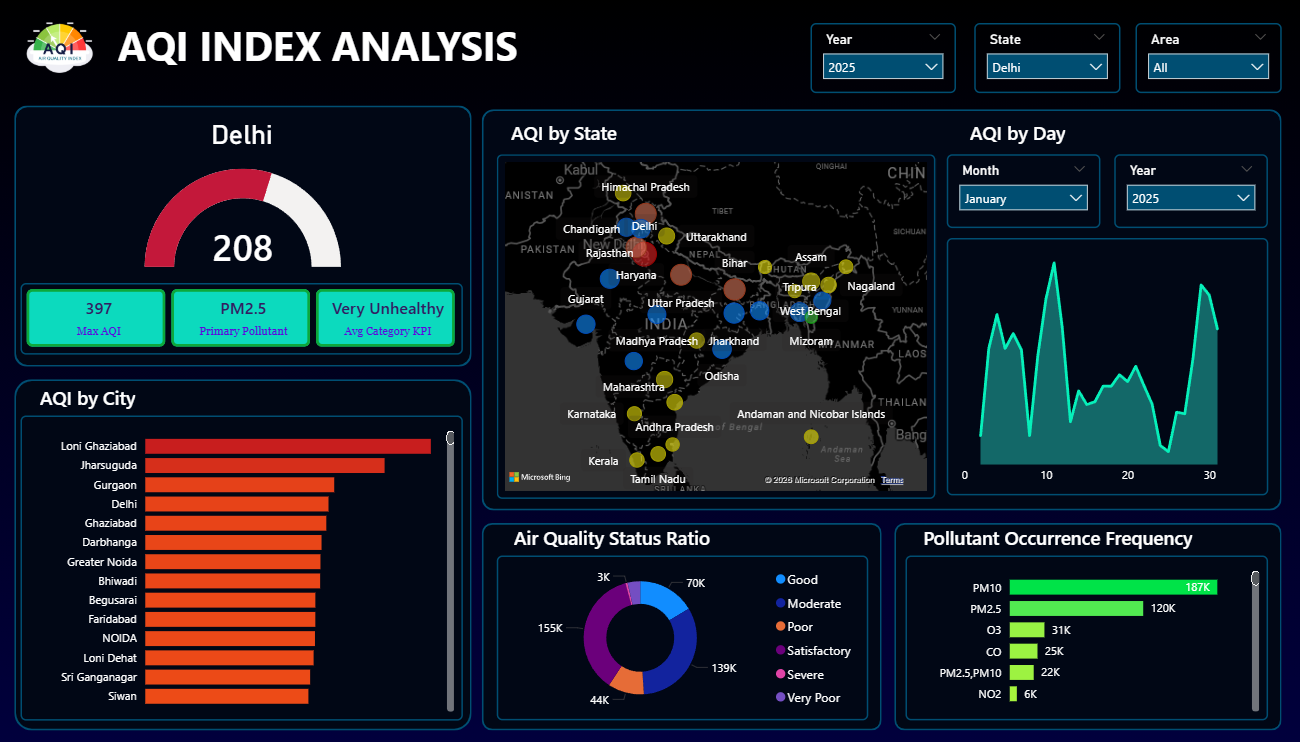

The dashboard page shown, as its layout file describes it:
{"tool":"powerbi","page":{"name":"Page 1","canvas":[1400,800],"ordinal":0},"visuals":[{"type":"textbox","box":[123.3,16.1,609.9,75.1],"z":0},{"type":"image","box":[24.1,16.1,84.5,73.7],"z":1000},{"type":"shape","box":[17.4,115.3,490.6,280.2],"z":2000},{"type":"gauge","fields":{"Y":["day_wise_aqi_data.Avg AQI"]},"box":[112.6,178.3,300.3,115.3],"z":3000},{"type":"slicer","fields":{"Values":["Calendar Table.Year"]},"box":[871.3,26.8,156,75],"z":4000},{"type":"slicer","fields":{"Values":["day_wise_aqi_data.state"]},"box":[1046.9,26.8,156.8,75],"z":5000},{"type":"slicer","fields":{"Values":["day_wise_aqi_data.area"]},"box":[1219.8,26.8,156.8,75],"z":6000},{"type":"cardVisual","fields":{"Data":["Max(day_wise_aqi_data.aqi_value)","day_wise_aqi_data.Primary Pollutant","day_wise_aqi_data.Measure Category KPI"]},"box":[24.1,305.6,474.5,76.4],"z":7000},{"type":"cardVisual","fields":{"Data":["day_wise_aqi_data.KPI Title"]},"box":[16.1,115.3,492,52.3],"z":8000},{"type":"shape","box":[518.8,119.3,857.9,430.3],"z":9000},{"type":"map","fields":{"Category":["day_wise_aqi_data.state"],"Size":["day_wise_aqi_data.Avg AQI"]},"box":[534.9,167.6,470.5,370],"z":10000},{"type":"cardVisual","fields":{"Data":["day_wise_aqi_data.State Map Title"]},"box":[534.9,115.3,144.8,48.3],"z":11000},{"type":"areaChart","fields":{"Category":["Calendar Table.Date.Variation.Date Hierarchy.Day"],"Y":["day_wise_aqi_data.Avg AQI"]},"box":[1017.4,257.4,344.5,276.1],"z":12000},{"type":"slicer","fields":{"Values":["Calendar Table.Date.Variation.Date Hierarchy.Month"]},"box":[1017.4,167.6,165,79.1],"z":13000},{"type":"slicer","fields":{"Values":["Calendar Table.Year"]},"box":[1197.1,167.6,164.9,79.1],"z":14000},{"type":"cardVisual","fields":{"Data":["day_wise_aqi_data.KPI Title1"]},"box":[1021.5,115.3,144.8,48.3],"z":15000},{"type":"shape","box":[17.4,408.8,490.6,376.7],"z":16000},{"type":"shape","box":[518.8,563,429,222.5],"z":17000},{"type":"shape","box":[961.1,563,415.6,222.5],"z":18000},{"type":"barChart","fields":{"Category":["day_wise_aqi_data.area"],"Y":["day_wise_aqi_data.Avg AQI"]},"box":[24.1,447.7,474.5,327.1],"z":19000},{"type":"cardVisual","fields":{"Data":["day_wise_aqi_data.City AQI"]},"box":[24.1,399.5,144.8,48.3],"z":20000},{"type":"donutChart","fields":{"Y":["day_wise_aqi_data.Count of Rows"],"Series":["day_wise_aqi_data.air_quality_status"]},"box":[534.9,597.9,398.1,176.9],"z":21000},{"type":"clusteredBarChart","fields":{"Y":["day_wise_aqi_data.Count of Rows"],"Category":["day_wise_aqi_data.prominent_pollutants"]},"box":[973.2,597.9,388.7,176.9],"z":22000},{"type":"cardVisual","fields":{"Data":["day_wise_aqi_data.Air Quality Ratio"]},"box":[534.9,549.6,248,48.3],"z":23000},{"type":"cardVisual","fields":{"Data":["day_wise_aqi_data.Pollutant Freq"]},"box":[974.5,549.6,324.4,48.3],"z":24000}]}

Visuals, with their boxes in screenshot pixels (x1, y1, x2, y2), scaled from the page's 1400x800 canvas onto the 1300x742 screenshot:
textbox: 114, 15, 681, 85
image: 22, 15, 101, 83
shape: 16, 107, 472, 367
gauge - day_wise_aqi_data.Avg AQI: 105, 165, 383, 272
slicer - Calendar Table.Year: 809, 25, 954, 94
slicer - day_wise_aqi_data.state: 972, 25, 1118, 94
slicer - day_wise_aqi_data.area: 1133, 25, 1278, 94
cardVisual - Max(day_wise_aqi_data.aqi_value) x day_wise_aqi_data.Primary Pollutant: 22, 283, 463, 354
cardVisual - day_wise_aqi_data.KPI Title: 15, 107, 472, 155
shape: 482, 111, 1278, 510
map - day_wise_aqi_data.state x day_wise_aqi_data.Avg AQI: 497, 155, 934, 499
cardVisual - day_wise_aqi_data.State Map Title: 497, 107, 631, 152
areaChart - Calendar Table.Date.Variation.Date Hierarchy.Day x day_wise_aqi_data.Avg AQI: 945, 239, 1265, 495
slicer - Calendar Table.Date.Variation.Date Hierarchy.Month: 945, 155, 1098, 229
slicer - Calendar Table.Year: 1112, 155, 1265, 229
cardVisual - day_wise_aqi_data.KPI Title1: 949, 107, 1083, 152
shape: 16, 379, 472, 729
shape: 482, 522, 880, 729
shape: 892, 522, 1278, 729
barChart - day_wise_aqi_data.area x day_wise_aqi_data.Avg AQI: 22, 415, 463, 719
cardVisual - day_wise_aqi_data.City AQI: 22, 371, 157, 415
donutChart - day_wise_aqi_data.Count of Rows x day_wise_aqi_data.air_quality_status: 497, 555, 866, 719
clusteredBarChart - day_wise_aqi_data.Count of Rows x day_wise_aqi_data.prominent_pollutants: 904, 555, 1265, 719
cardVisual - day_wise_aqi_data.Air Quality Ratio: 497, 510, 727, 555
cardVisual - day_wise_aqi_data.Pollutant Freq: 905, 510, 1206, 555
